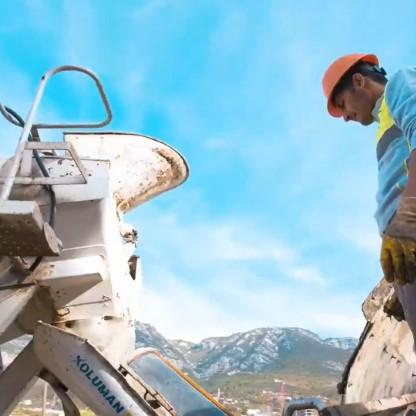helmet: (322, 47, 392, 136)
